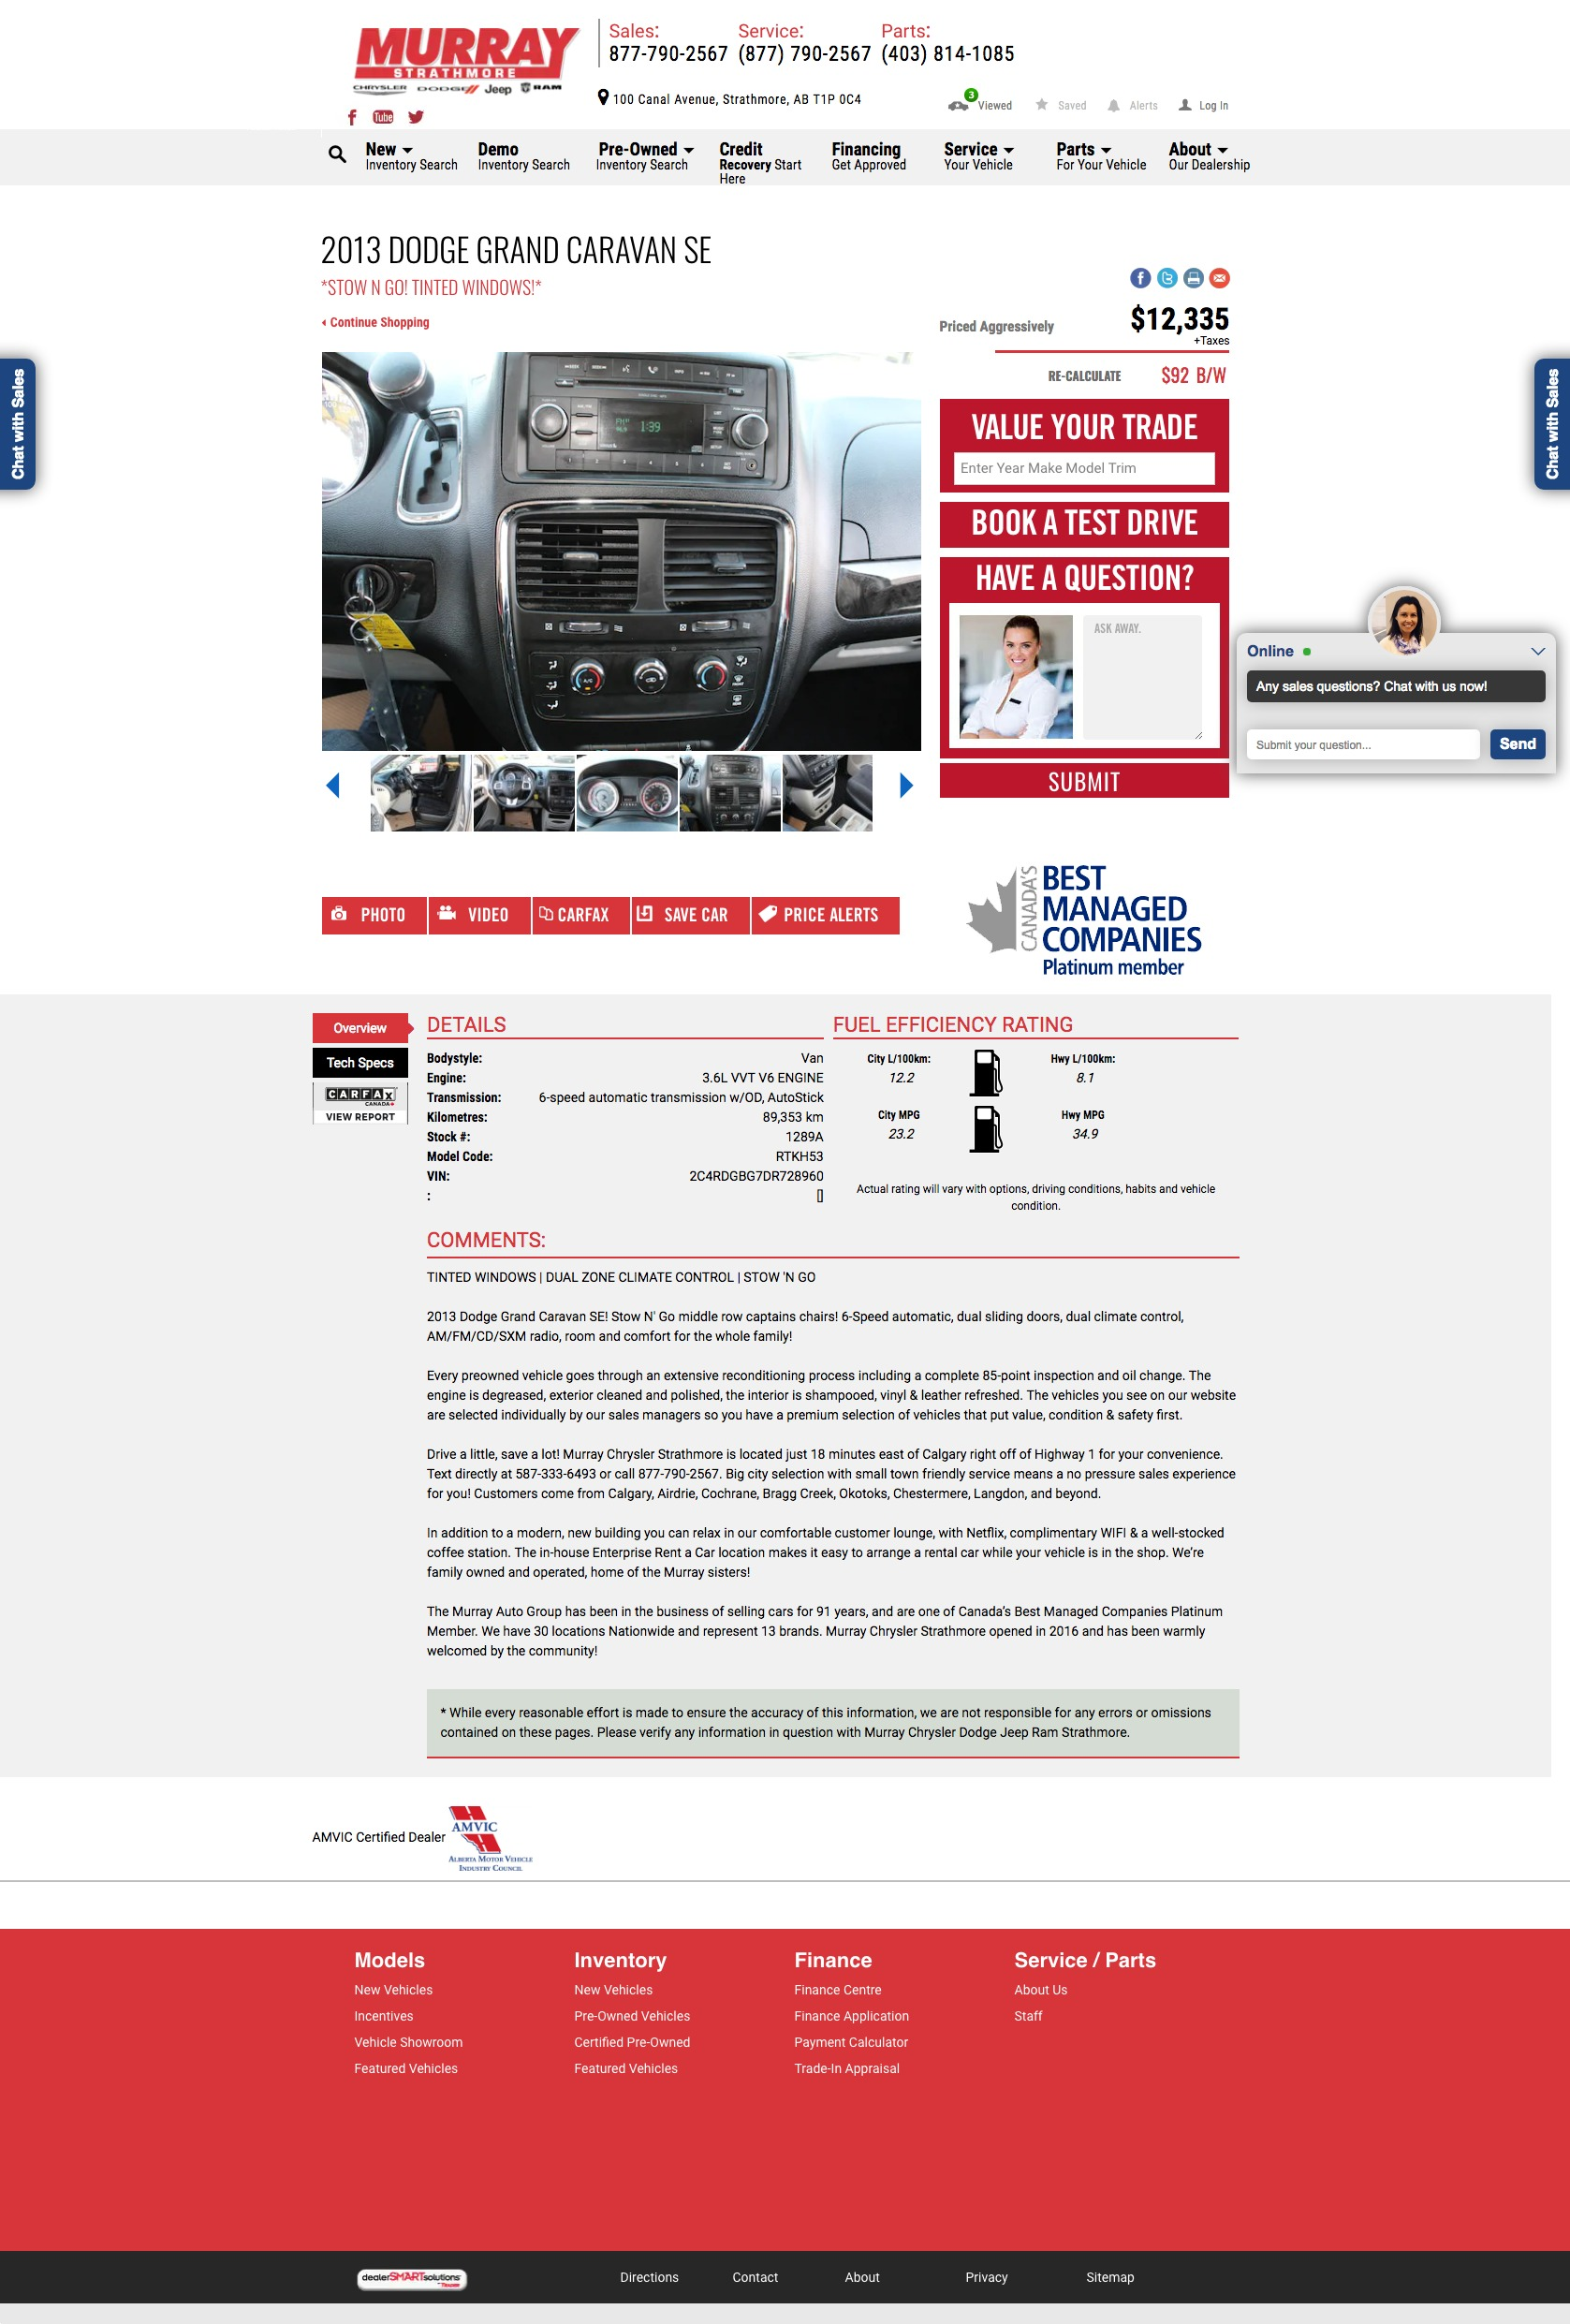car: (899, 771, 915, 799)
